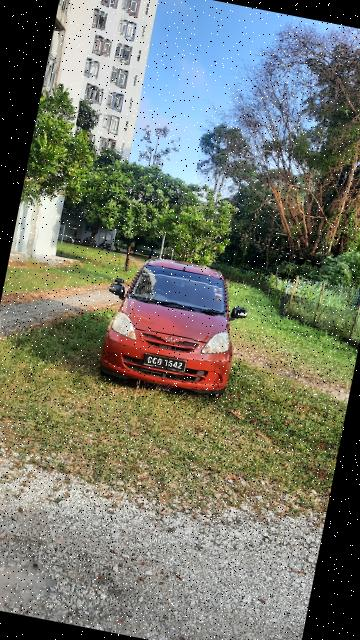License_Plate: (142, 351, 190, 378)
car: (89, 249, 256, 401)
